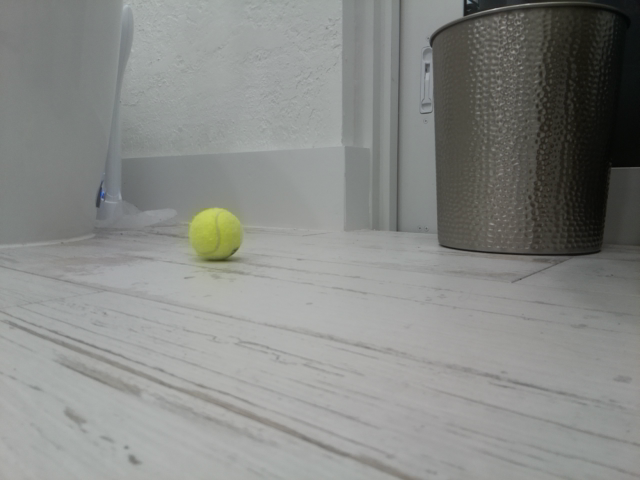yellow-ball: (187, 206, 243, 263)
